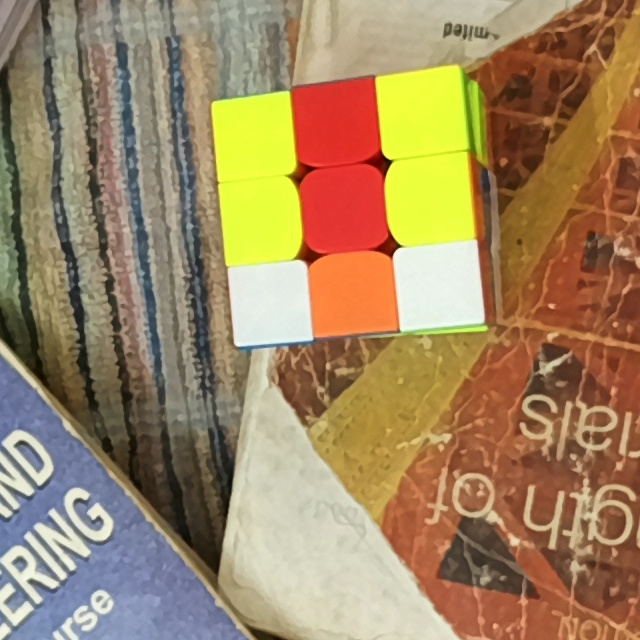tile: (398, 163, 466, 237), (388, 77, 459, 146), (404, 251, 477, 318), (309, 175, 379, 243), (300, 89, 373, 154), (237, 270, 306, 336), (316, 263, 387, 327), (228, 186, 293, 253), (220, 104, 284, 168)
